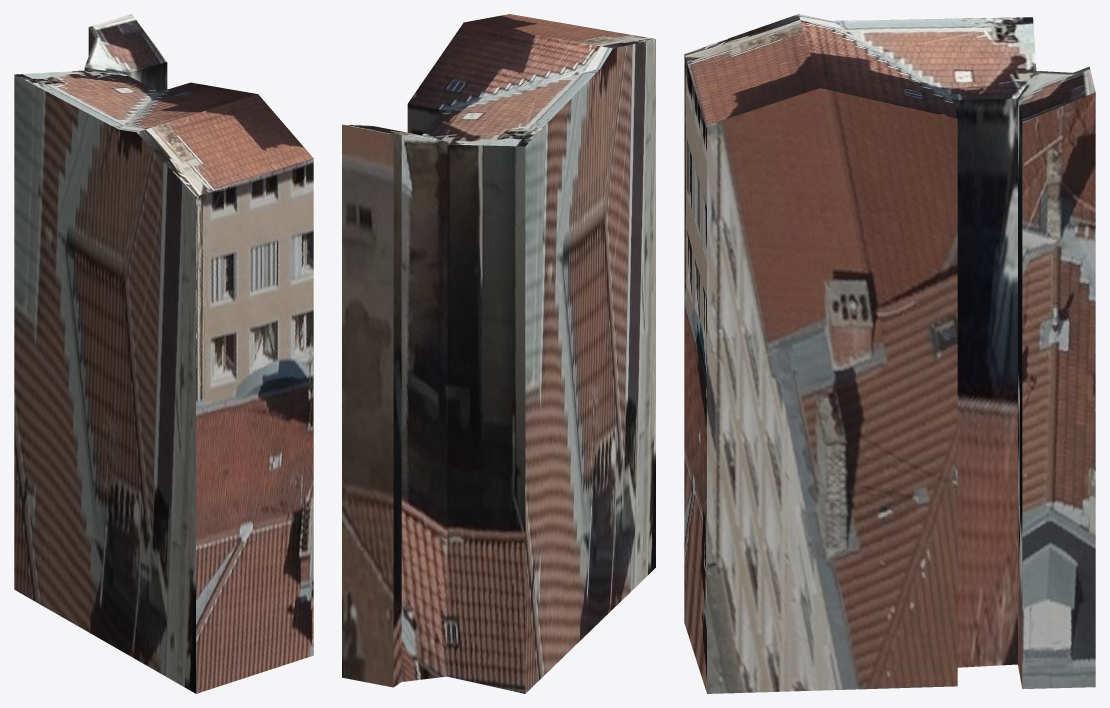
3 views of the same model, side by side, from view 1: azimuth 30°, elevation 25°; view 2: azimuth 150°, elevation 25°; view 3: azimuth 270°, elevation 25° (orthographic). The views are drawn at different scales.
Visible parts, largest first — view 1: Z_UP; view 2: Z_UP; view 3: Z_UP.
Boxes of the visible parts, x1=… form: Z_UP: x1=14, y1=14, x2=313, y2=693; Z_UP: x1=342, y1=14, x2=655, y2=693; Z_UP: x1=684, y1=14, x2=1095, y2=693.
Bounding box in the file's own units: 6.75 × 21.64 × 13.37.
2 materials, 1 textured.
